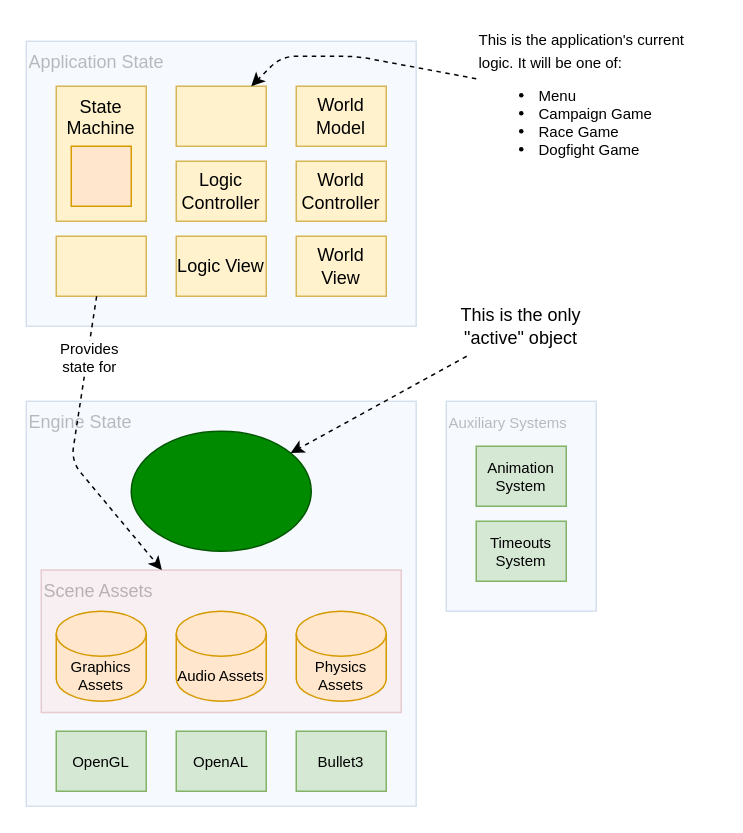
This 743x833 diagram has some shape labels left out. Each missing label, with the centre of its shape:
"Current Scene" goes at point 100,265.
"Current State" goes at point 100,175.
"Engine" goes at point 220,490.
"Logic Model" goes at point 220,115.
